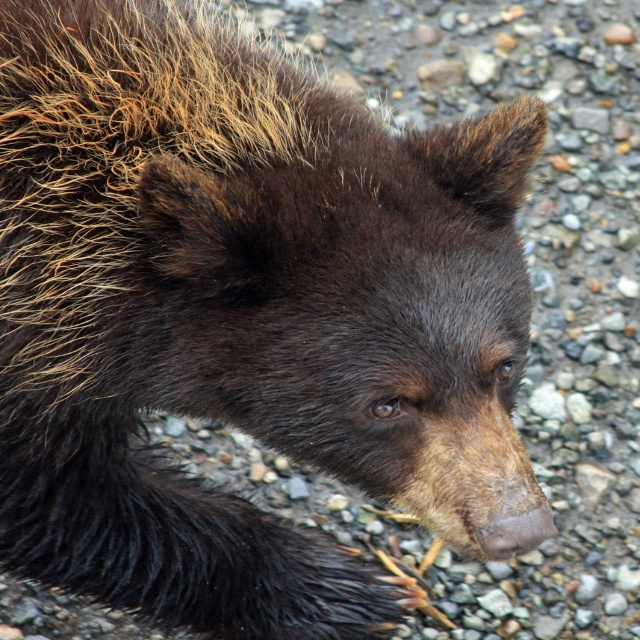Brown bear: (0, 0, 562, 639)
